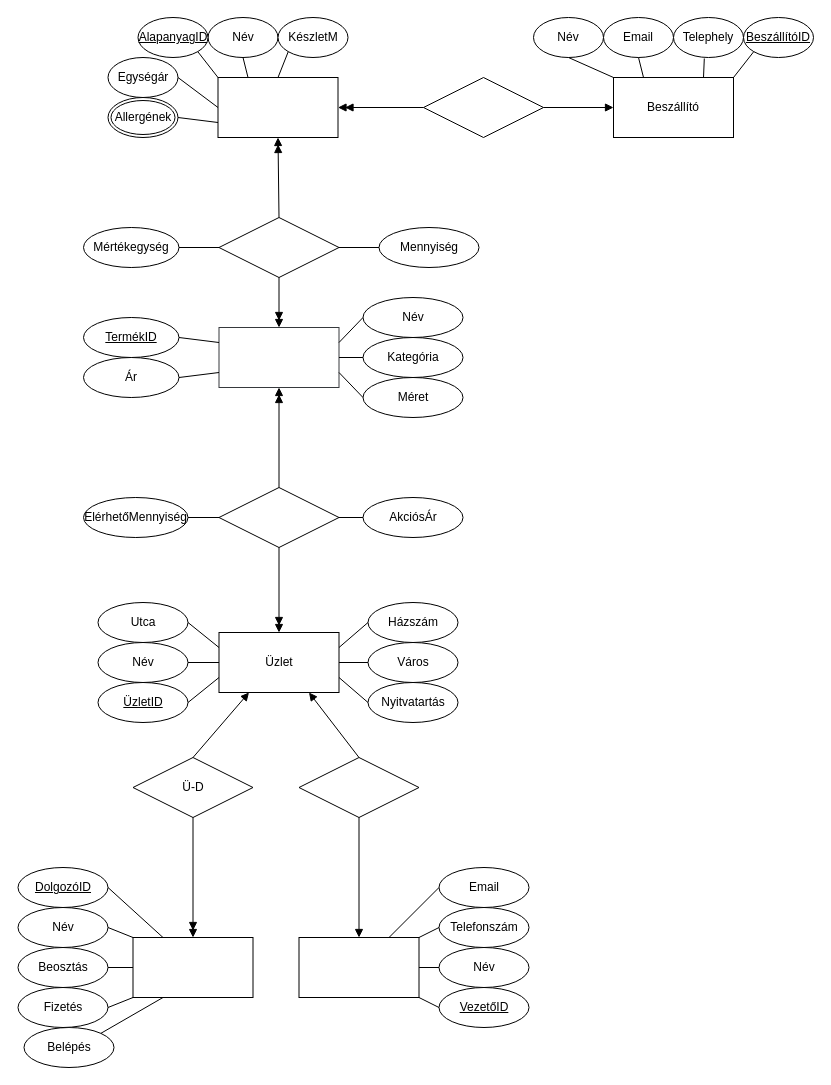
This 831x1085 diagram has some shape labels left out. The centre of each missing label's shape, as x and y in pixels:
Alapanyag: pixel 277 107
B-A: pixel 483 107
Dolgozó: pixel 192 967
T-A: pixel 278 247
Termék: pixel 278 357
Ü-T: pixel 278 517
Ü-ÜV: pixel 358 787
Üzletvezető: pixel 358 967
